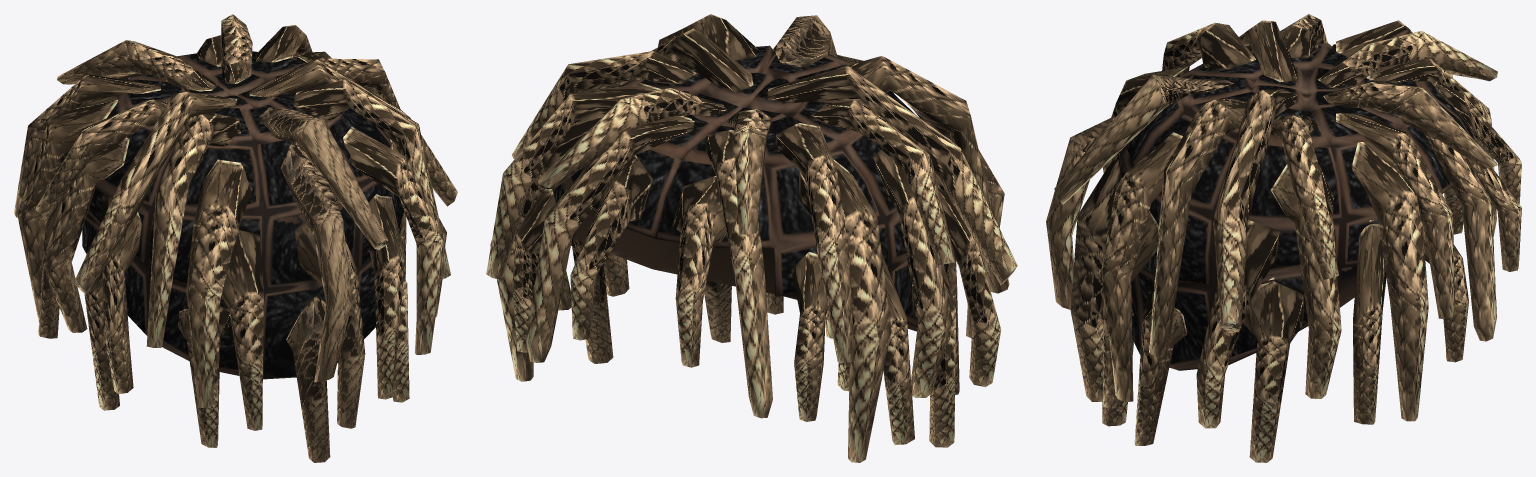
The picture shows the model from 3 angles, left to right: view 1: azimuth 30°, elevation 25°; view 2: azimuth 150°, elevation 25°; view 3: azimuth 270°, elevation 25°; orthographic projection. The views are drawn at different scales.
Parts seen in each view (by area): view 1: geometry_0; view 2: geometry_0; view 3: geometry_0.
Part boxes in pixels (x1,y1,x2,y2): geometry_0: (14, 14, 457, 462); geometry_0: (486, 14, 1017, 462); geometry_0: (1046, 14, 1521, 462).
Size of the model in its own units: 1.78 by 1.49 by 1.75.
1 material, 1 textured.
